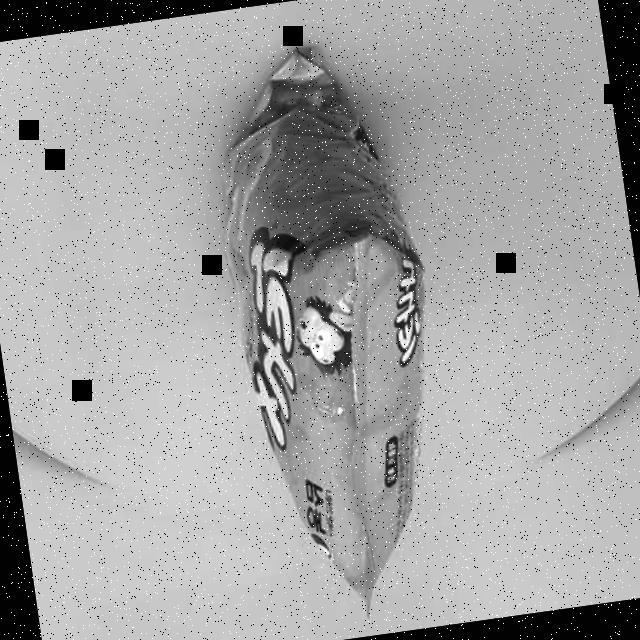snack_bag: (189, 28, 486, 636)
